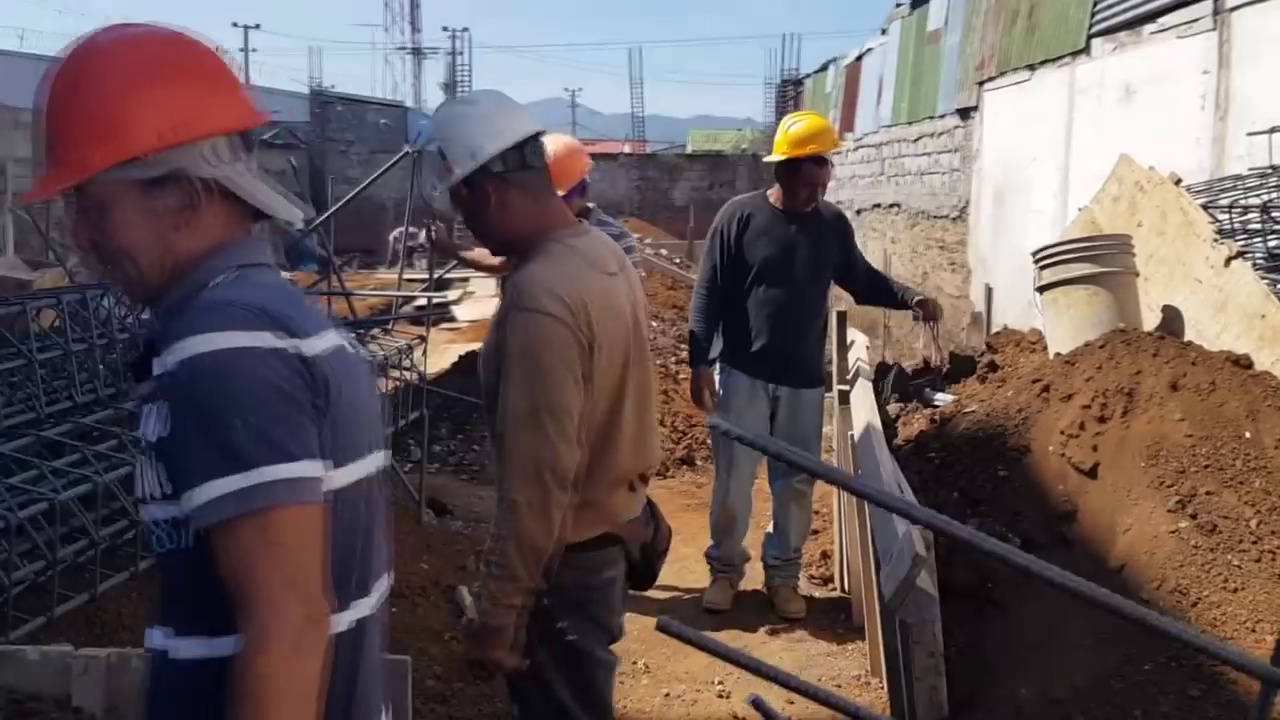helmet: (19, 25, 270, 210), (411, 87, 541, 192), (763, 110, 842, 165), (539, 139, 595, 196)
helmet-on: (19, 16, 271, 302), (409, 100, 597, 251), (766, 113, 842, 212), (539, 140, 596, 217)
person: (19, 13, 397, 720), (418, 88, 655, 708), (686, 111, 941, 615), (541, 129, 646, 282)
